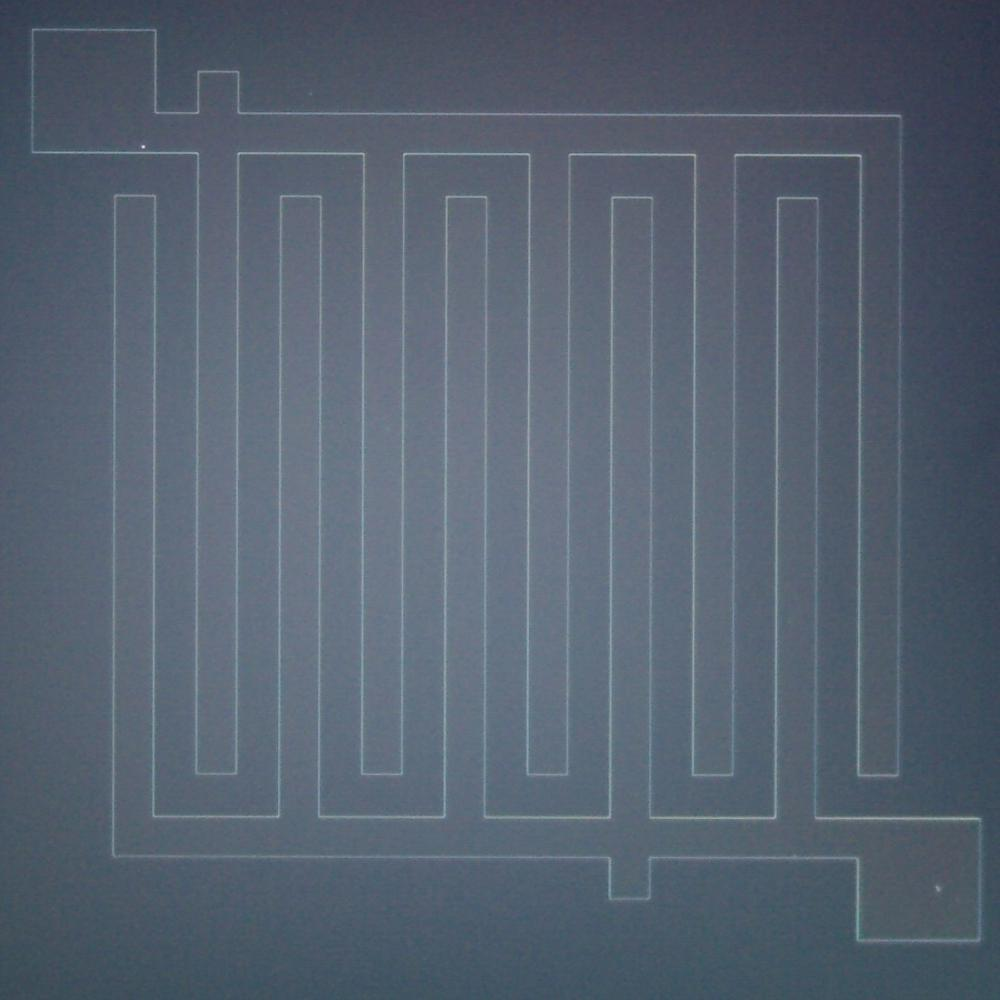budge circuit: (596, 844, 660, 912), (186, 62, 250, 124)
dot: (128, 132, 156, 160)
